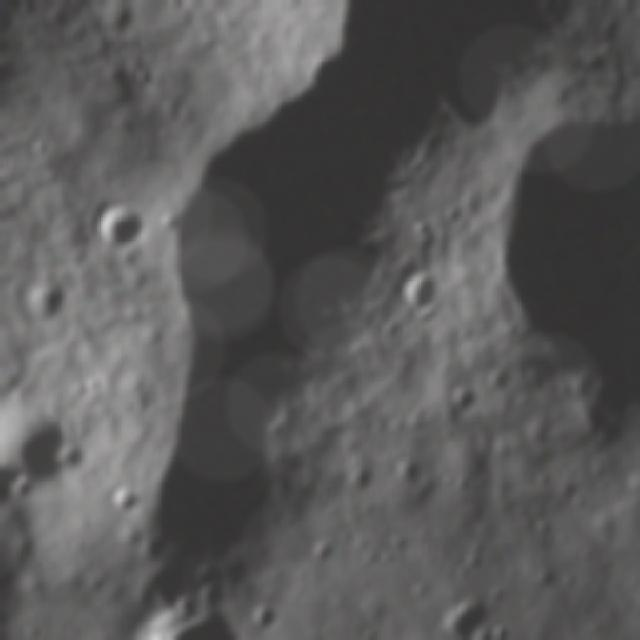crater: (0, 392, 85, 514), (84, 189, 158, 257), (430, 583, 508, 640), (12, 272, 77, 332), (392, 254, 446, 318), (442, 374, 491, 424), (244, 597, 285, 637), (104, 482, 139, 518)
